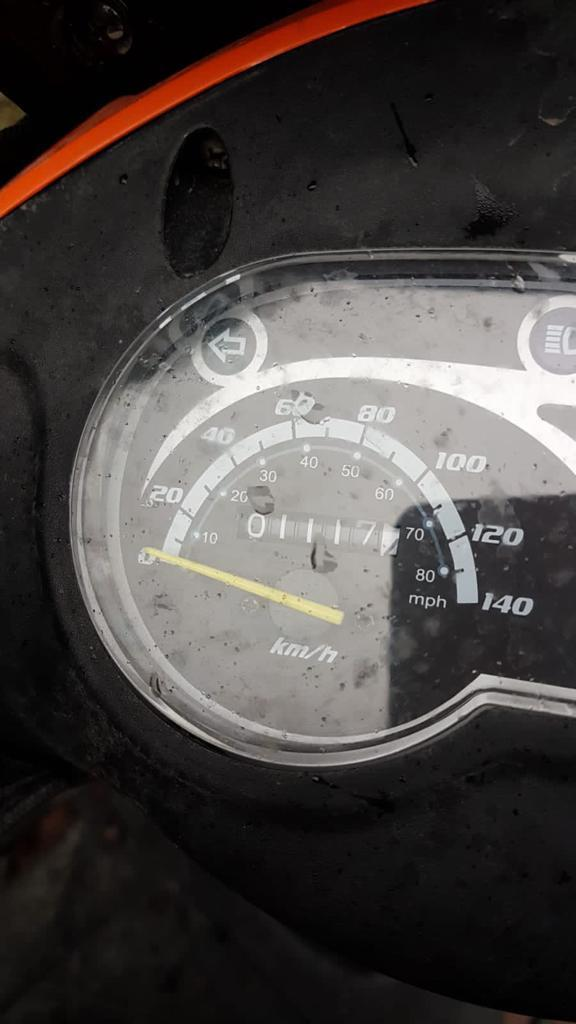0: (246, 511, 266, 539)
1: (328, 512, 343, 547), (304, 515, 316, 546), (278, 512, 289, 542)
4: (382, 537, 402, 562)
7: (355, 516, 377, 547)
odometer: (231, 509, 407, 570)
